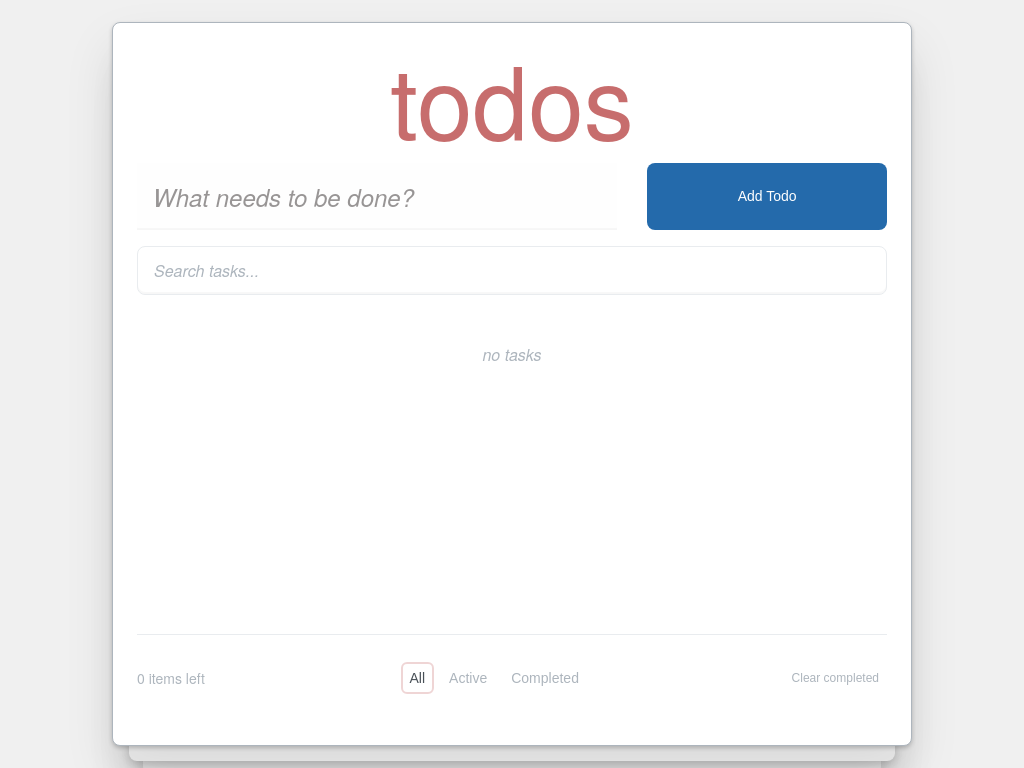
Test: Todo Workflow Integration › должен работать с Enter для добавления задач
Type "Задача через Enter" into the field with placeholder "What needs to be done?" at (377, 196), box [137, 163, 616, 230]
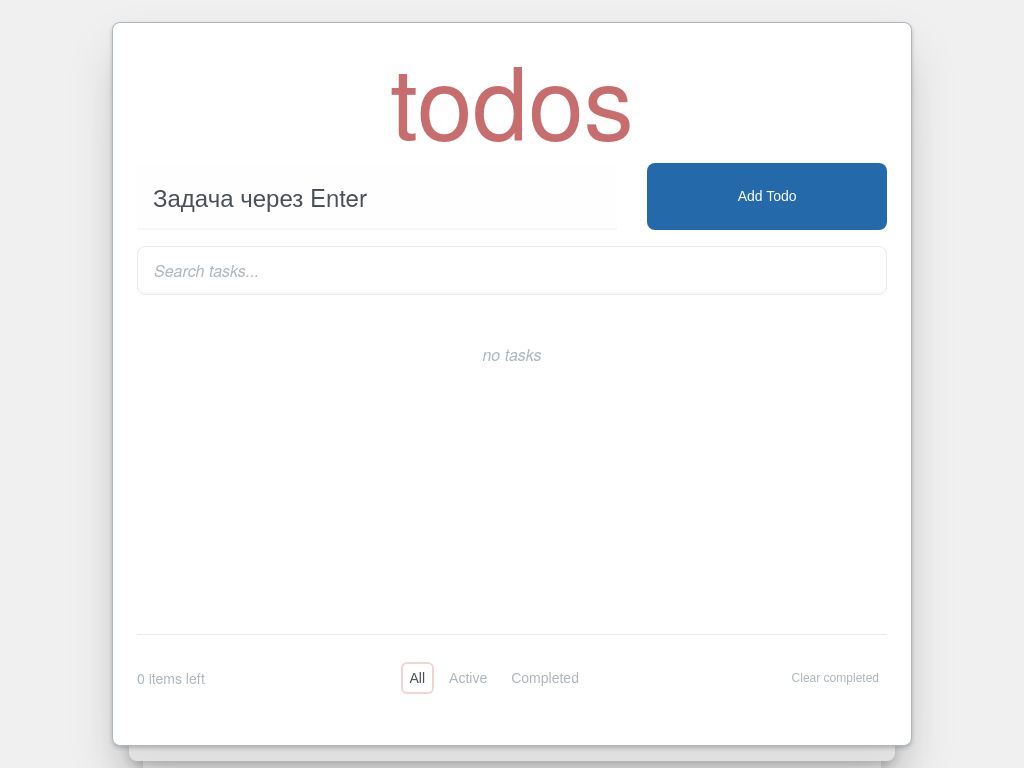
Press Enter
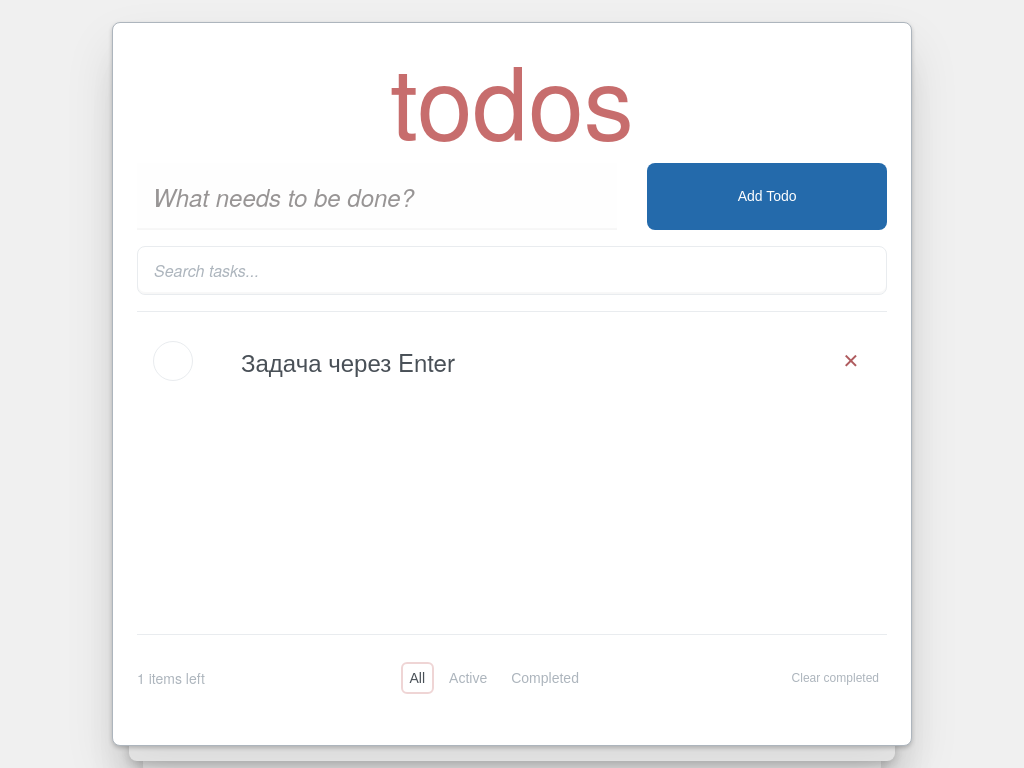
Expected: the number of elements with test id "todo-item" is 1, [153, 341, 871, 381]
Expected: the text "Задача через Enter" is shown, [241, 344, 455, 379]
Expected: the field with placeholder "What needs to be done?" is empty, [137, 163, 616, 230]
